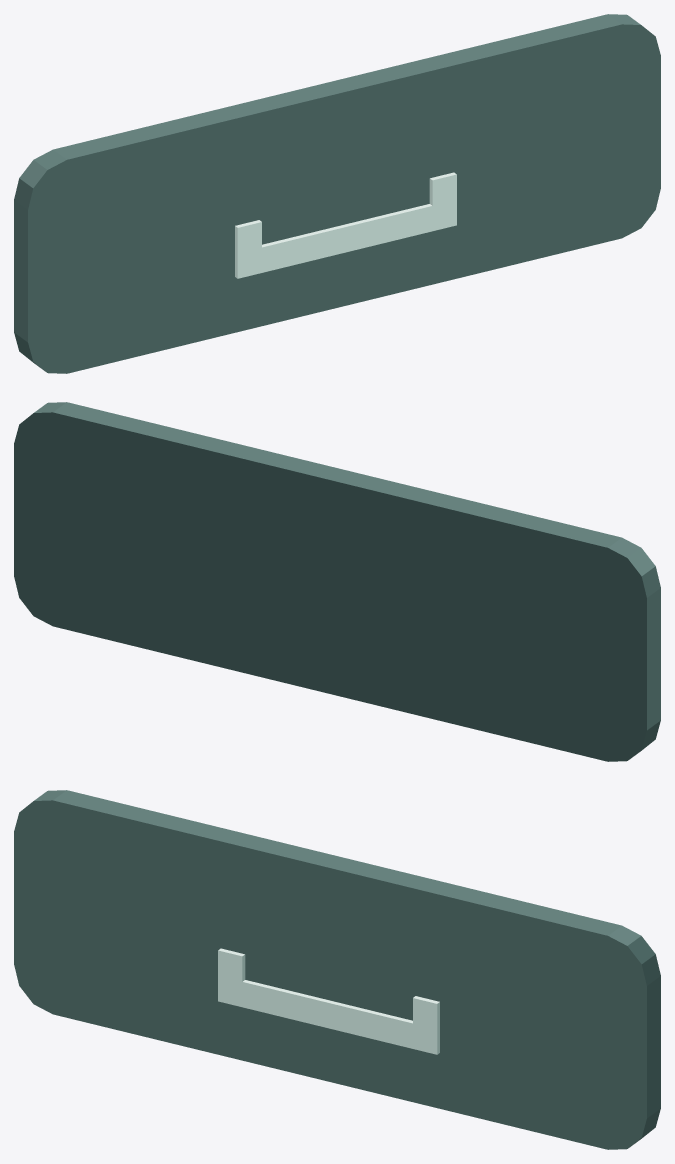
The model's file is Key_Space.gltf.
3 views of the same model, one above another, from view 1: azimuth 30°, elevation 25°; view 2: azimuth 150°, elevation 25°; view 3: azimuth 330°, elevation 25° (orthographic).
Parts seen in each view (by area): view 1: Key_Space_baked; view 2: Key_Space_baked; view 3: Key_Space_baked.
Boxes of the visible parts, x1,y1,x2,y2 form: Key_Space_baked: [14, 14, 660, 373]; Key_Space_baked: [14, 402, 660, 761]; Key_Space_baked: [14, 790, 660, 1149].
Size of the model in its own units: 2.6 by 0.84 by 0.12.
